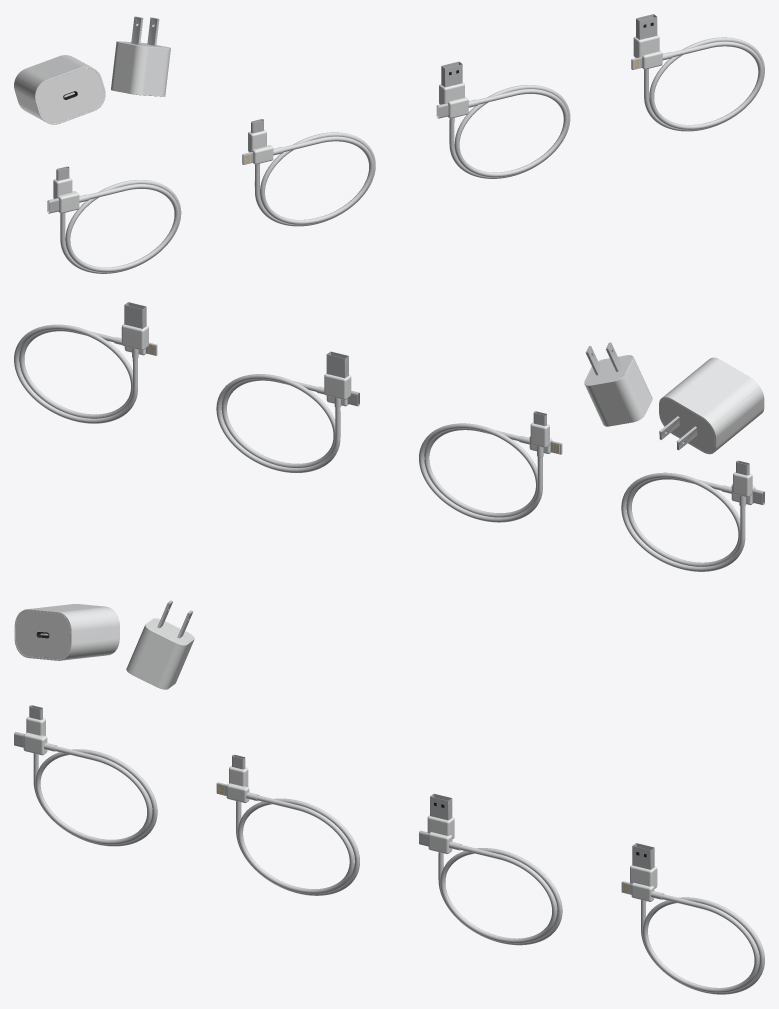
File: accessories-portable.glb
The picture shows the model from 3 angles, top to bottom: view 1: azimuth 30°, elevation 25°; view 2: azimuth 150°, elevation 25°; view 3: azimuth 330°, elevation 25°; orthographic projection. The views are drawn at different scales.
Visible parts, largest first — view 1: CHARGER_USB_C__CHARGER_USB_C_PBR, CABLE_USB-A_TO_USB-C__CABLE_USB-A_TO_USB-C_PBR, CABLE_USB-A_TO_LIGHTNING__CABLE_USB-A_TO_LIGHTNING_PBR, CABLE_USB-C_TO_USB-C__CABLE_USB-C_TO_USB-C_PBR, CABLE_USB-C_TO_LIGHTNING__CABLE_USB-C_TO_LIGHTNING_PBR, CHARGER_USB_A__CHARGER_USB_A_PBR; view 2: CHARGER_USB_C__CHARGER_USB_C_PBR, CABLE_USB-A_TO_USB-C__CABLE_USB-A_TO_USB-C_PBR, CABLE_USB-A_TO_LIGHTNING__CABLE_USB-A_TO_LIGHTNING_PBR, CABLE_USB-C_TO_USB-C__CABLE_USB-C_TO_USB-C_PBR, CABLE_USB-C_TO_LIGHTNING__CABLE_USB-C_TO_LIGHTNING_PBR, CHARGER_USB_A__CHARGER_USB_A_PBR; view 3: CHARGER_USB_C__CHARGER_USB_C_PBR, CABLE_USB-A_TO_USB-C__CABLE_USB-A_TO_USB-C_PBR, CABLE_USB-A_TO_LIGHTNING__CABLE_USB-A_TO_LIGHTNING_PBR, CABLE_USB-C_TO_USB-C__CABLE_USB-C_TO_USB-C_PBR, CABLE_USB-C_TO_LIGHTNING__CABLE_USB-C_TO_LIGHTNING_PBR, CHARGER_USB_A__CHARGER_USB_A_PBR.
Part boxes in pixels (x1,y1,x2,y2): CHARGER_USB_C__CHARGER_USB_C_PBR: (14,55,105,124); CABLE_USB-A_TO_USB-C__CABLE_USB-A_TO_USB-C_PBR: (436,61,570,178); CABLE_USB-A_TO_LIGHTNING__CABLE_USB-A_TO_LIGHTNING_PBR: (631,14,764,131); CABLE_USB-C_TO_USB-C__CABLE_USB-C_TO_USB-C_PBR: (47,166,181,273); CABLE_USB-C_TO_LIGHTNING__CABLE_USB-C_TO_LIGHTNING_PBR: (242,119,375,226); CHARGER_USB_A__CHARGER_USB_A_PBR: (111,16,170,96); CHARGER_USB_C__CHARGER_USB_C_PBR: (659,357,764,454); CABLE_USB-A_TO_USB-C__CABLE_USB-A_TO_USB-C_PBR: (216,351,359,472); CABLE_USB-A_TO_LIGHTNING__CABLE_USB-A_TO_LIGHTNING_PBR: (14,302,157,423); CABLE_USB-C_TO_USB-C__CABLE_USB-C_TO_USB-C_PBR: (621,460,764,571); CABLE_USB-C_TO_LIGHTNING__CABLE_USB-C_TO_LIGHTNING_PBR: (419,411,562,522); CHARGER_USB_A__CHARGER_USB_A_PBR: (584,342,652,426); CHARGER_USB_C__CHARGER_USB_C_PBR: (14,604,119,660); CABLE_USB-A_TO_USB-C__CABLE_USB-A_TO_USB-C_PBR: (419,793,562,945); CABLE_USB-A_TO_LIGHTNING__CABLE_USB-A_TO_LIGHTNING_PBR: (621,843,764,994); CABLE_USB-C_TO_USB-C__CABLE_USB-C_TO_USB-C_PBR: (14,705,157,846); CABLE_USB-C_TO_LIGHTNING__CABLE_USB-C_TO_LIGHTNING_PBR: (216,754,359,895); CHARGER_USB_A__CHARGER_USB_A_PBR: (126,600,194,689).
Size of the model in its own units: 0.4844 by 0.1436 by 0.0619.
6 materials, 6 textured.
